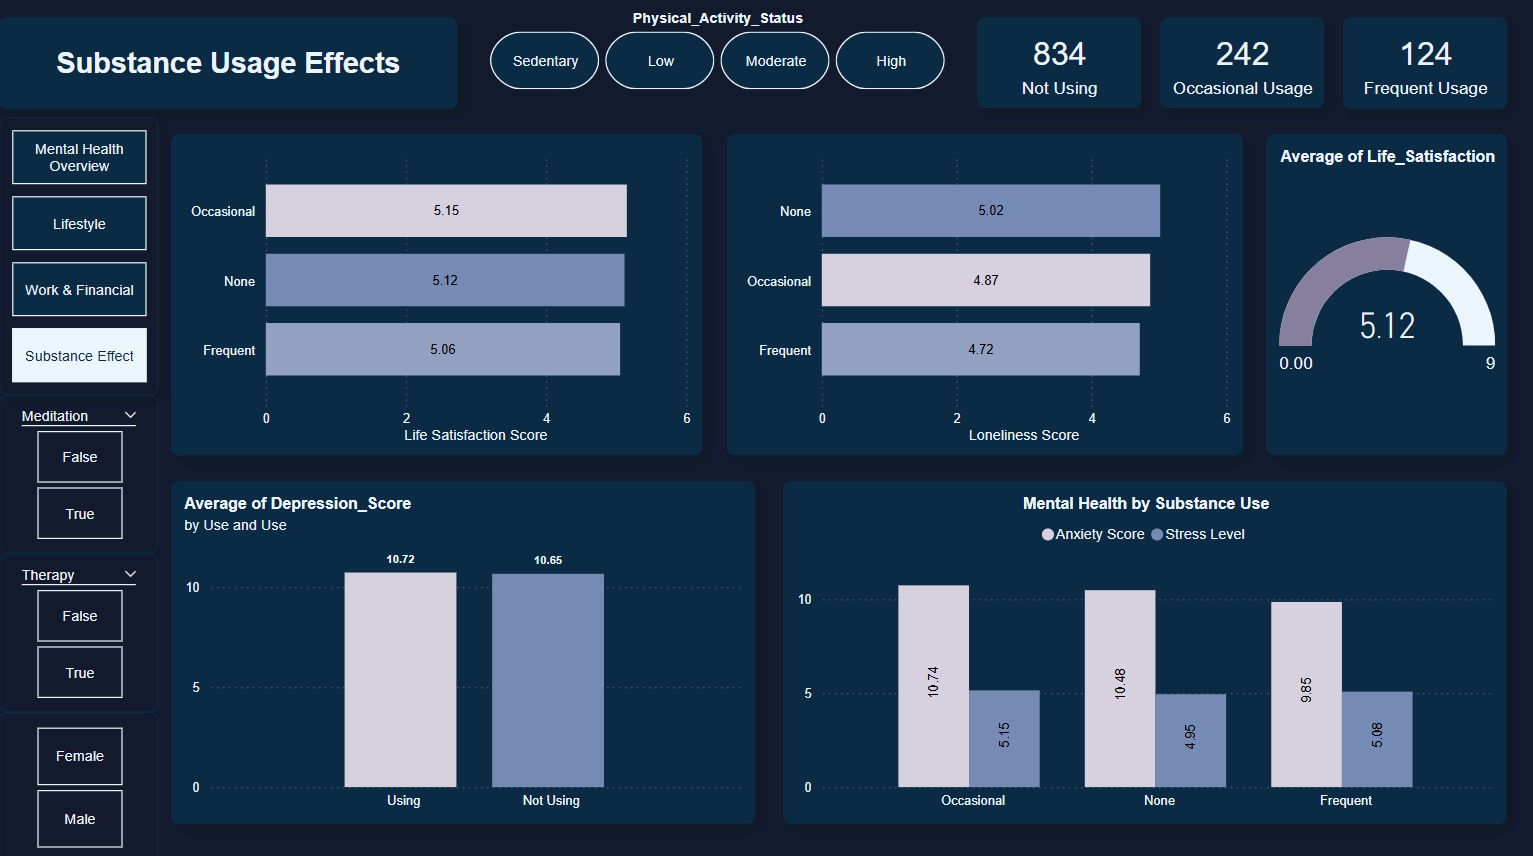

Layout of this report page (visuals, bound fields, positions):
{"tool":"powerbi","page":{"name":"Substance  Effect","canvas":[1280,720],"ordinal":3},"visuals":[{"type":"shape","box":[0,15.6,382.2,76.7],"z":0},{"type":"textbox","box":[0,41.1,382.2,51.1],"z":1000},{"type":"slicer","fields":{"Values":["anxiety_depression_data.Gender"]},"box":[0,595,133,125],"z":2000},{"type":"pageNavigator","box":[0,99,133,232],"z":3000},{"type":"slicer","fields":{"Values":["anxiety_depression_data.Therapy"]},"box":[0,463,133,132],"z":4000},{"type":"slicer","fields":{"Values":["anxiety_depression_data.Meditation"]},"box":[0,331,133,132],"z":5000},{"type":"lineClusteredColumnComboChart","title":"Mental Health by Substance Use","fields":{"Category":["anxiety_depression_data.Substance_Use"],"Y":["Avg(anxiety_depression_data.Anxiety_Score)","Avg(anxiety_depression_data.Stress_Level)"]},"box":[653.3,402.2,603.3,285.6],"z":6000},{"type":"barChart","fields":{"Category":["anxiety_depression_data.Substance_Use"],"Y":["Avg(anxiety_depression_data.Loneliness_Score)"],"Series":["anxiety_depression_data.Substance_Use"]},"box":[606.7,113.3,430,267.8],"z":7000},{"type":"columnChart","fields":{"Category":["Substance.Use"],"Y":["Avg(anxiety_depression_data.Depression_Score)"],"Series":["Substance.Use"]},"box":[143.3,402.2,486.7,285.6],"z":8000},{"type":"barChart","fields":{"Category":["anxiety_depression_data.Substance_Use"],"Y":["Avg(anxiety_depression_data.Life_Satisfaction_Score)"],"Series":["anxiety_depression_data.Substance_Use"]},"box":[143.3,113.3,443.3,267.8],"z":9000},{"type":"card","fields":{"Values":["CountNonNull(anxiety_depression_data.Substance_Use)"]},"box":[1407.7,140,136.9,89.2],"z":10000},{"type":"card","fields":{"Values":["CountNonNull(anxiety_depression_data.Substance_Use)"]},"box":[814.8,16,137,76],"z":11000},{"type":"card","fields":{"Values":["CountNonNull(anxiety_depression_data.Substance_Use)"]},"box":[967.4,16,137,76],"z":12000},{"type":"advancedSlicerVisual","fields":{"Values":["Physical Activity Hours.Physical_Activity_Status"]},"box":[398.9,0,400,85.6],"z":13000},{"type":"card","fields":{"Values":["CountNonNull(anxiety_depression_data.Substance_Use)"]},"box":[1120,16,137,77],"z":14000},{"type":"gauge","title":"Average of Life_Satisfaction","fields":{"Y":["Avg(anxiety_depression_data.Life_Satisfaction_Score)"],"MaxValue":["Max(anxiety_depression_data.Life_Satisfaction_Score)1"]},"box":[1055.6,113.3,201.1,267.8],"z":15000}]}

Visuals, with their boxes in screenshot pixels (x1, y1, x2, y2), scaled from the page's 1280x720 canvas onto the 1533x856 screenshot:
shape: bbox(0, 19, 458, 110)
textbox: bbox(0, 49, 458, 110)
slicer - anxiety_depression_data.Gender: bbox(0, 707, 159, 855)
pageNavigator: bbox(0, 118, 159, 394)
slicer - anxiety_depression_data.Therapy: bbox(0, 550, 159, 707)
slicer - anxiety_depression_data.Meditation: bbox(0, 394, 159, 550)
"Mental Health by Substance Use" lineClusteredColumnComboChart: bbox(782, 478, 1505, 818)
barChart - anxiety_depression_data.Substance_Use x Avg(anxiety_depression_data.Loneliness_Score): bbox(727, 135, 1242, 453)
columnChart - Substance.Use x Avg(anxiety_depression_data.Depression_Score): bbox(172, 478, 755, 818)
barChart - anxiety_depression_data.Substance_Use x Avg(anxiety_depression_data.Life_Satisfaction_Score): bbox(172, 135, 703, 453)
card - CountNonNull(anxiety_depression_data.Substance_Use): bbox(976, 19, 1140, 109)
card - CountNonNull(anxiety_depression_data.Substance_Use): bbox(1159, 19, 1323, 109)
advancedSlicerVisual - Physical Activity Hours.Physical_Activity_Status: bbox(478, 0, 957, 102)
card - CountNonNull(anxiety_depression_data.Substance_Use): bbox(1341, 19, 1505, 111)
"Average of Life_Satisfaction" gauge: bbox(1264, 135, 1505, 453)
